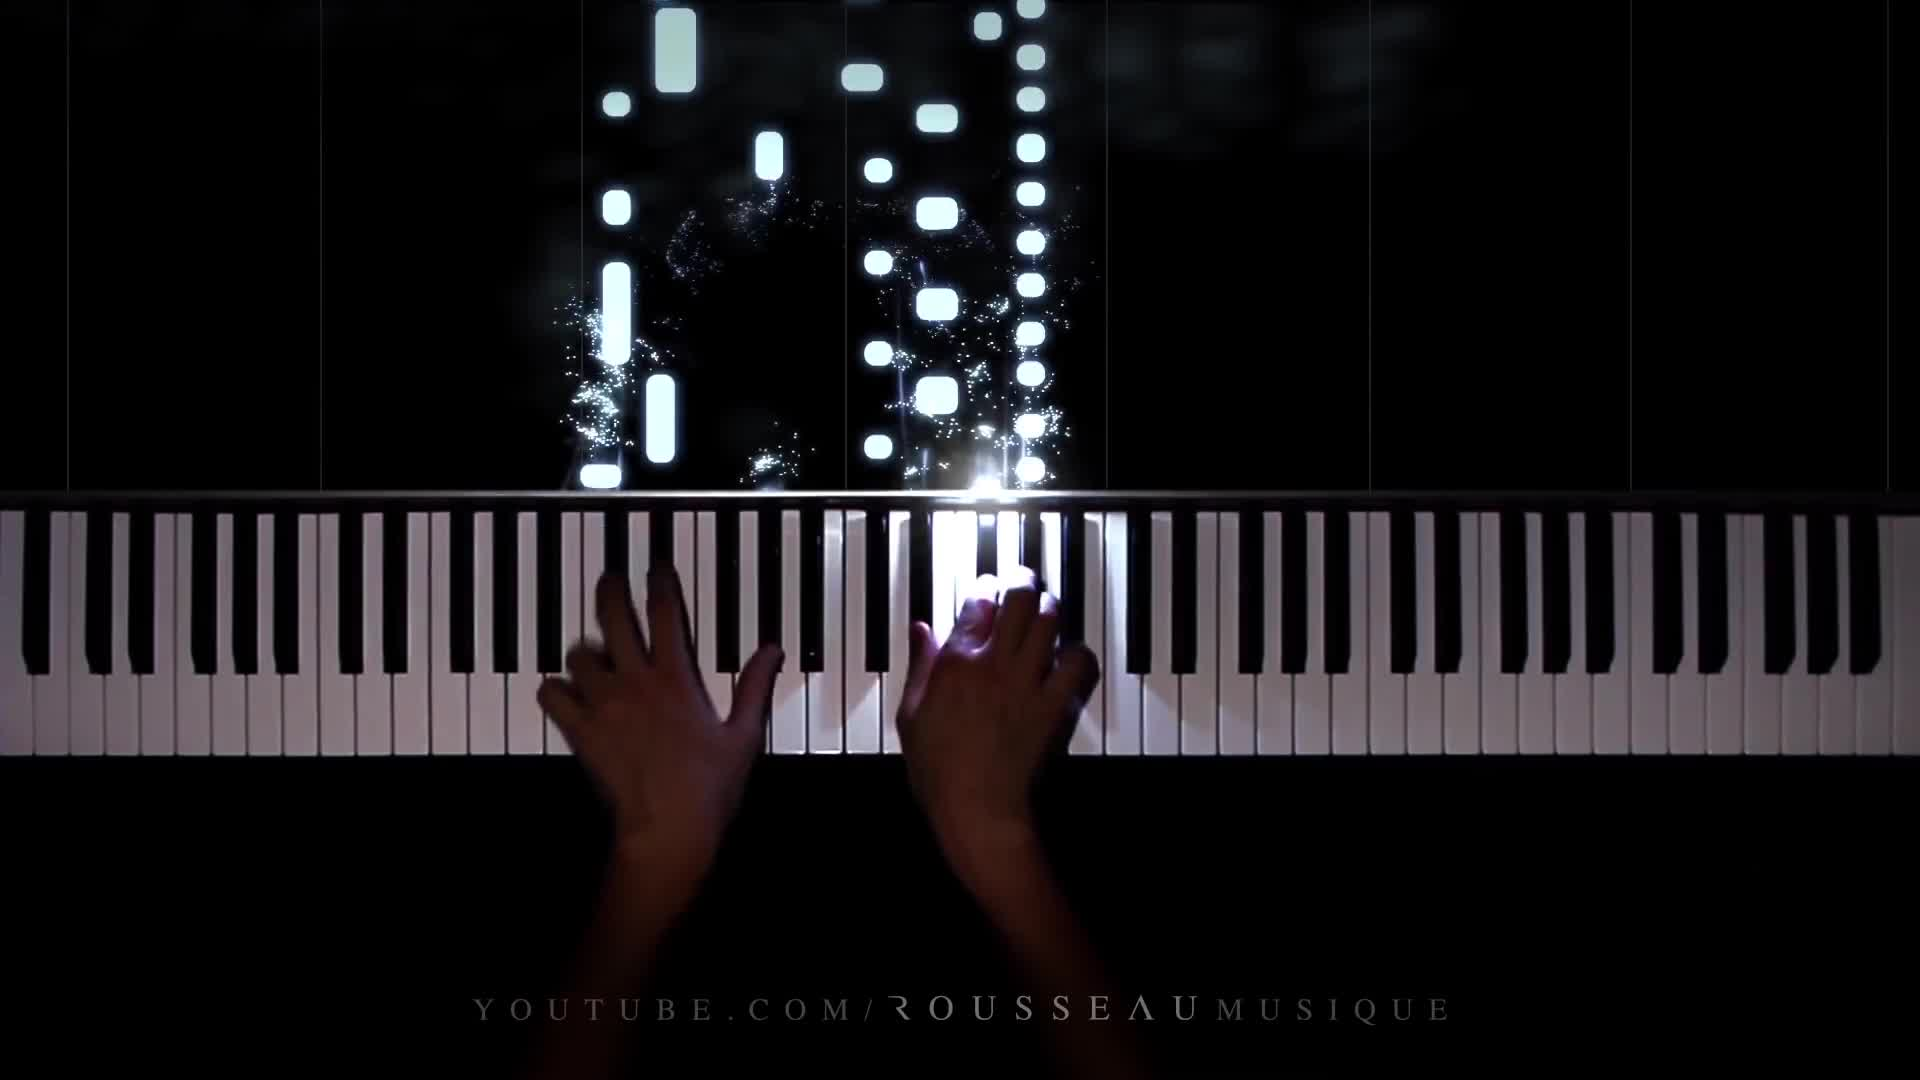left: (535, 554, 789, 796)
right: (902, 562, 1101, 814)
